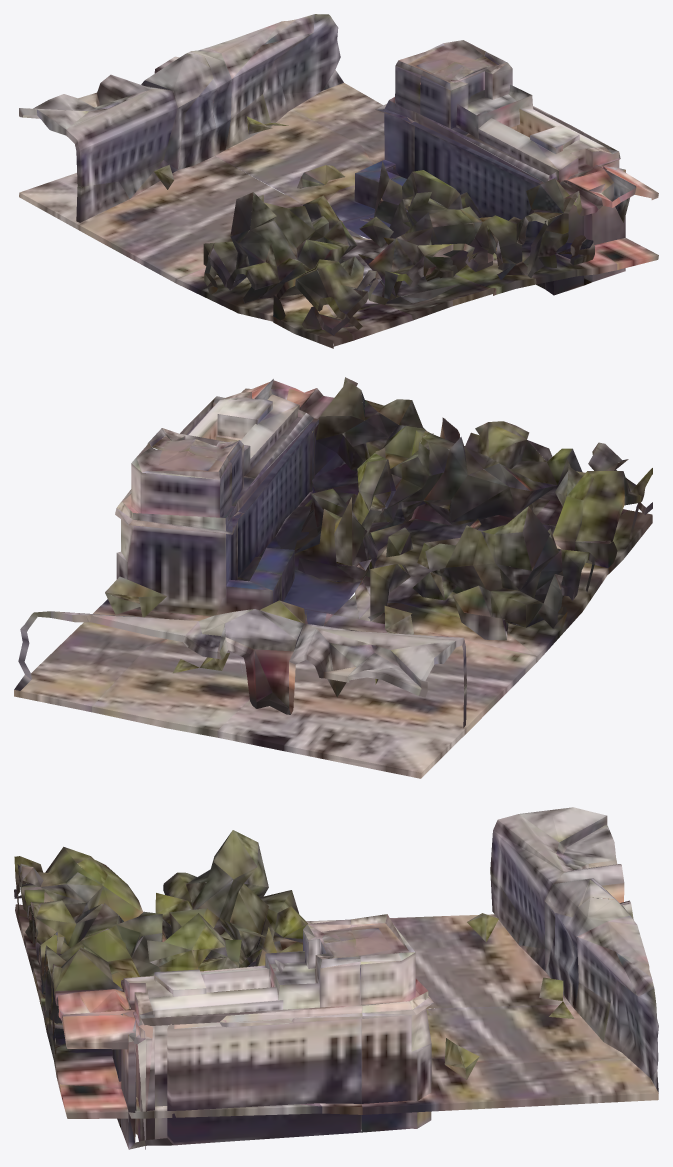
The picture shows the model from 3 angles, top to bottom: view 1: azimuth 30°, elevation 25°; view 2: azimuth 150°, elevation 25°; view 3: azimuth 270°, elevation 25°; orthographic projection. The views are drawn at different scales.
Visible parts, largest first — view 1: Mesh_0; view 2: Mesh_0; view 3: Mesh_0.
Boxes of the visible parts, x1,y1,x2,y2 form: Mesh_0: [19, 14, 658, 348]; Mesh_0: [14, 377, 652, 778]; Mesh_0: [14, 807, 658, 1149].
Size of the model in its own units: 135 by 50.13 by 165.
Materials: 2 (2 with a texture image).
